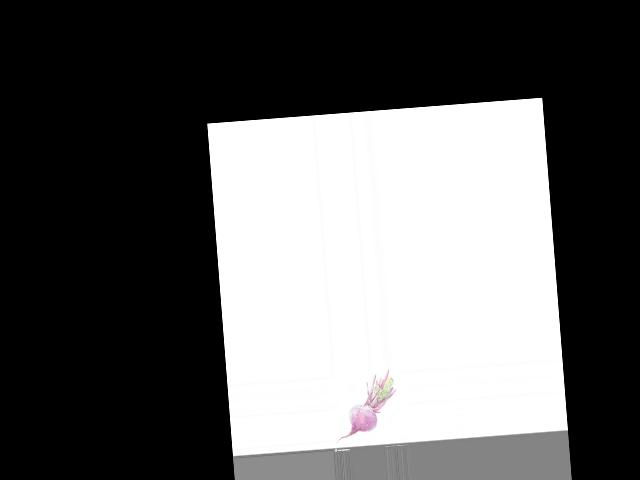beet: (330, 368, 400, 444)
